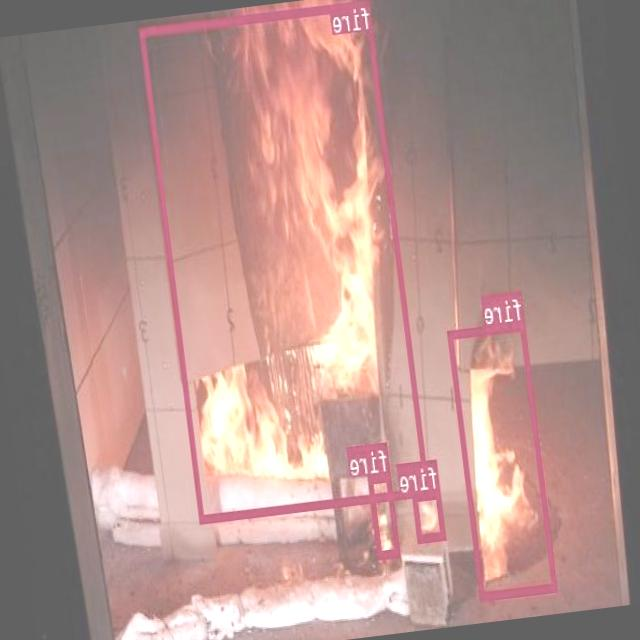fire: (140, 0, 431, 521), (448, 320, 558, 600), (368, 471, 401, 558), (412, 488, 447, 542)
